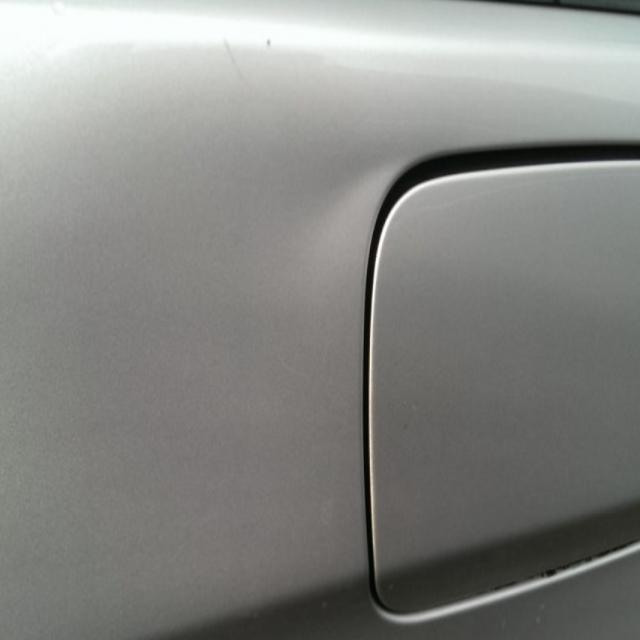dents: (269, 126, 412, 296)
